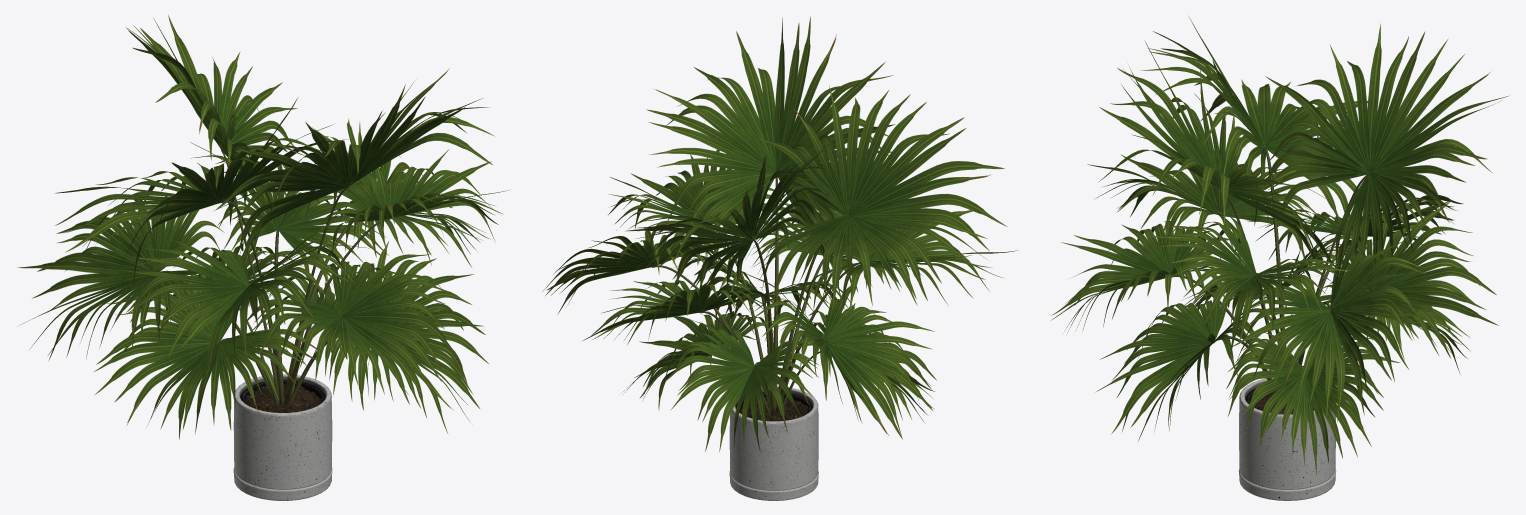
Rendered from livistona.glb.
3 renders of one model, left to right at view 1: azimuth 30°, elevation 25°; view 2: azimuth 150°, elevation 25°; view 3: azimuth 270°, elevation 25°, orthographic. The views are drawn at different scales.
Parts seen in each view (by area): view 1: LIVISTONA_CHINENSIS_LIVISTONA_CHINENSIS_Mat_0, PLANTER_TERRA_BASE_PLANTER_BOTTOM_CROSS_Mat_0; view 2: LIVISTONA_CHINENSIS_LIVISTONA_CHINENSIS_Mat_0, PLANTER_TERRA_BASE_PLANTER_BOTTOM_CROSS_Mat_0; view 3: LIVISTONA_CHINENSIS_LIVISTONA_CHINENSIS_Mat_0, PLANTER_TERRA_BASE_PLANTER_BOTTOM_CROSS_Mat_0.
Boxes of the visible parts, <box> form: LIVISTONA_CHINENSIS_LIVISTONA_CHINENSIS_Mat_0: <box>18,15,510,439</box>; PLANTER_TERRA_BASE_PLANTER_BOTTOM_CROSS_Mat_0: <box>233,374,332,500</box>; LIVISTONA_CHINENSIS_LIVISTONA_CHINENSIS_Mat_0: <box>542,16,1017,451</box>; PLANTER_TERRA_BASE_PLANTER_BOTTOM_CROSS_Mat_0: <box>729,386,818,500</box>; LIVISTONA_CHINENSIS_LIVISTONA_CHINENSIS_Mat_0: <box>1051,17,1509,475</box>; PLANTER_TERRA_BASE_PLANTER_BOTTOM_CROSS_Mat_0: <box>1238,377,1336,500</box>.
Size of the model in its own units: 1.6 by 1.53 by 1.45.
Materials: 2 (2 with a texture image).
